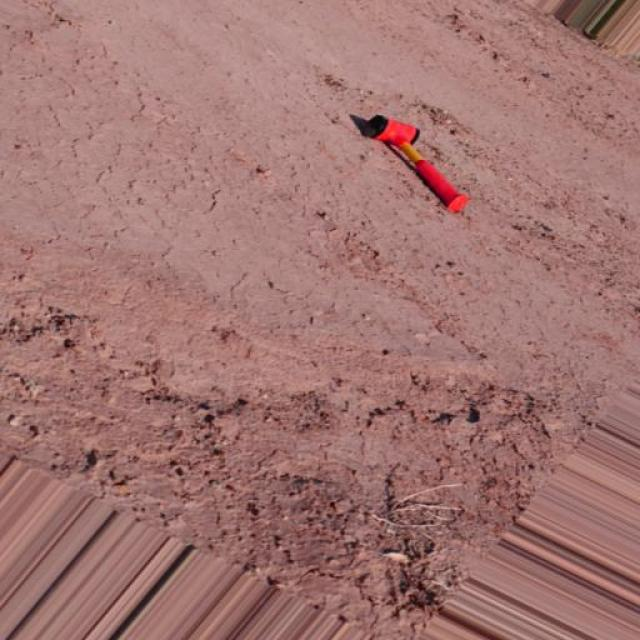mallet: (350, 110, 471, 214)
